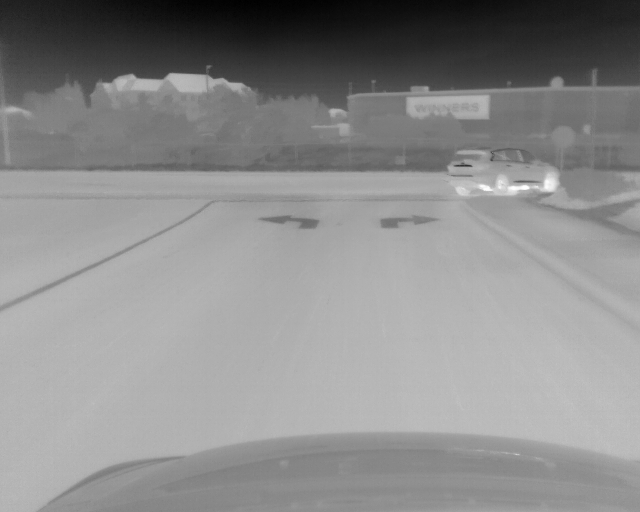car: (445, 145, 562, 196)
